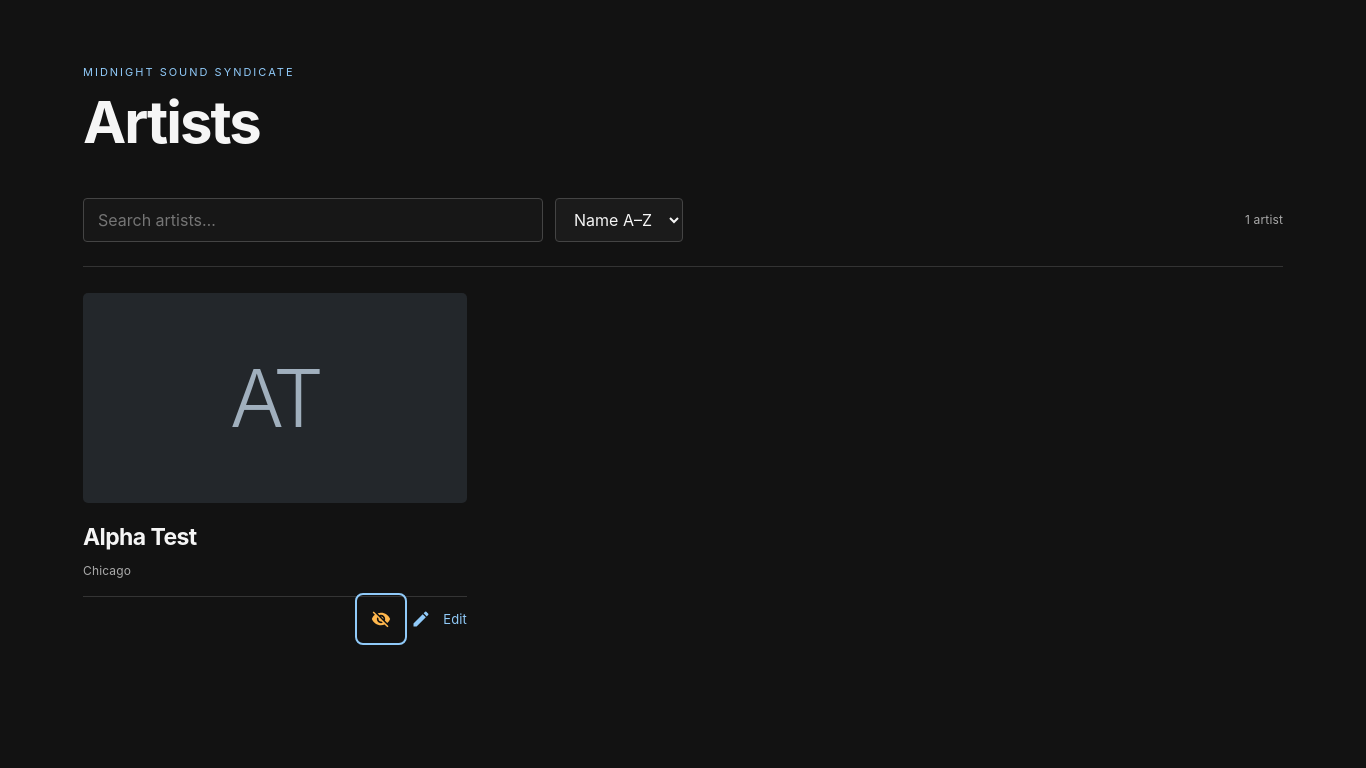
it: places a focusable non-action disabled icon immediately before Edit with an explanatory tooltip
Expected: the message "Disabled artist — visible only to artists and admins" is not shown
Hover over the message named "Disabled artist — visible only to artists and admins".
mouse_move(381, 619)  # box [371,609,391,629]
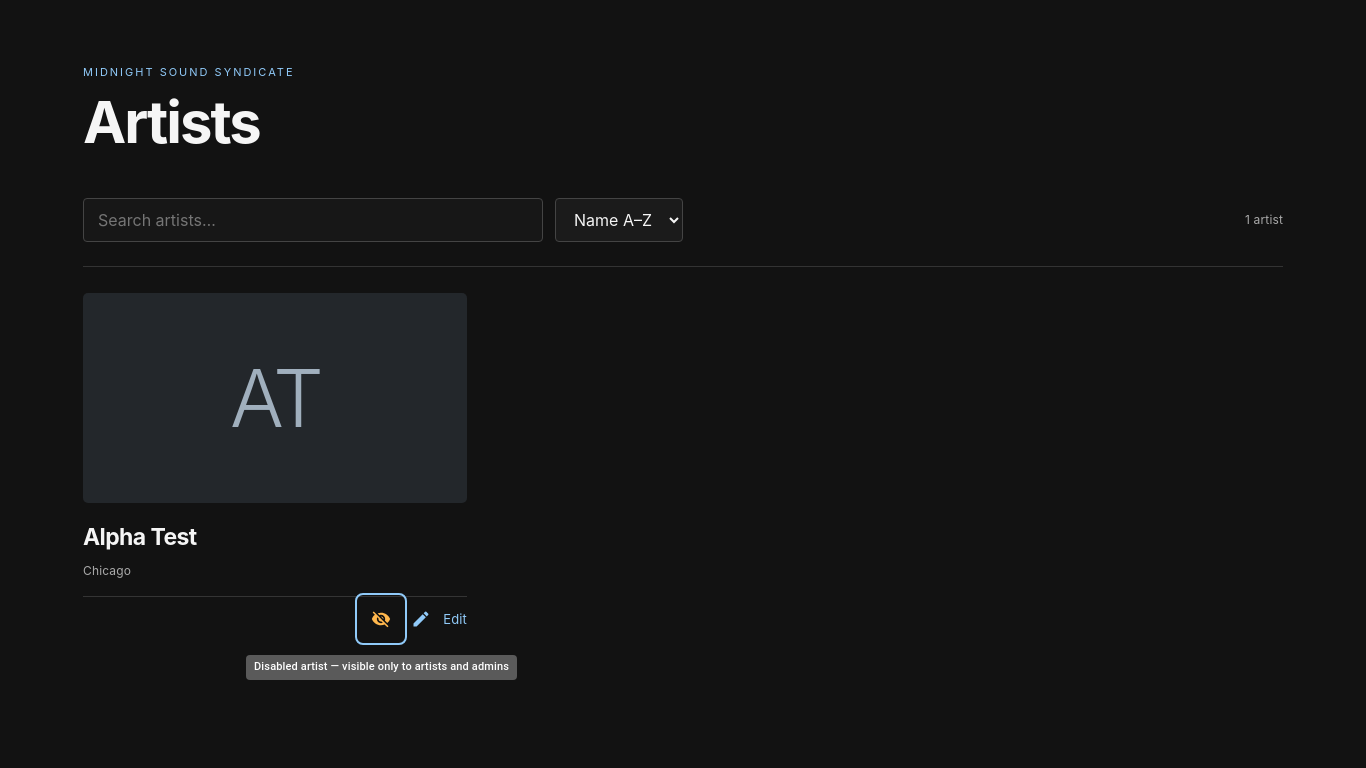
Result: the tooltip reads "Disabled artist — visible only to artists and admins" at [254,660,509,673]
